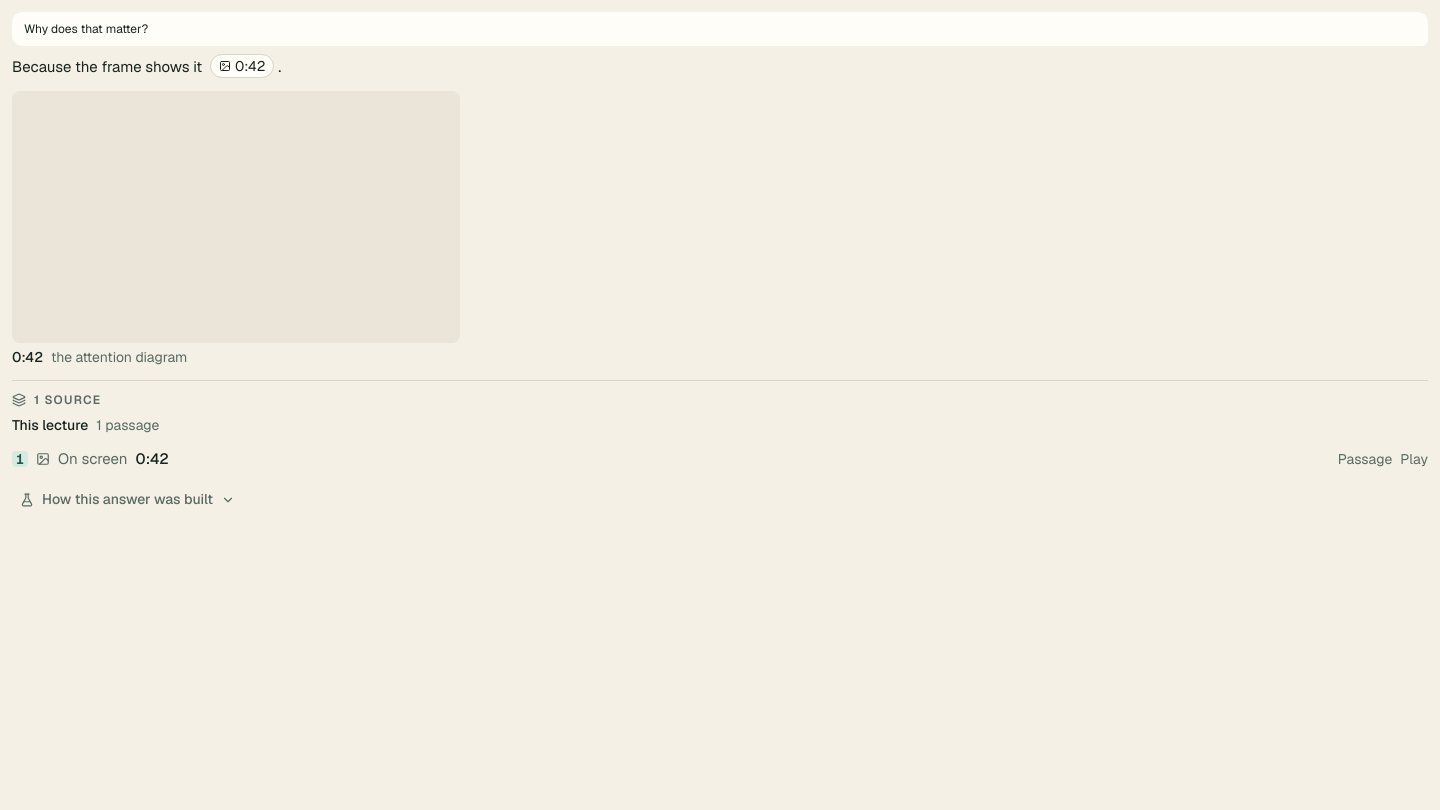
Test: VideoSideChatTurns › shows the anchored context report for a side turn
Click the button "How this answer was built". click: (127, 500)
box: [12,486,243,514]
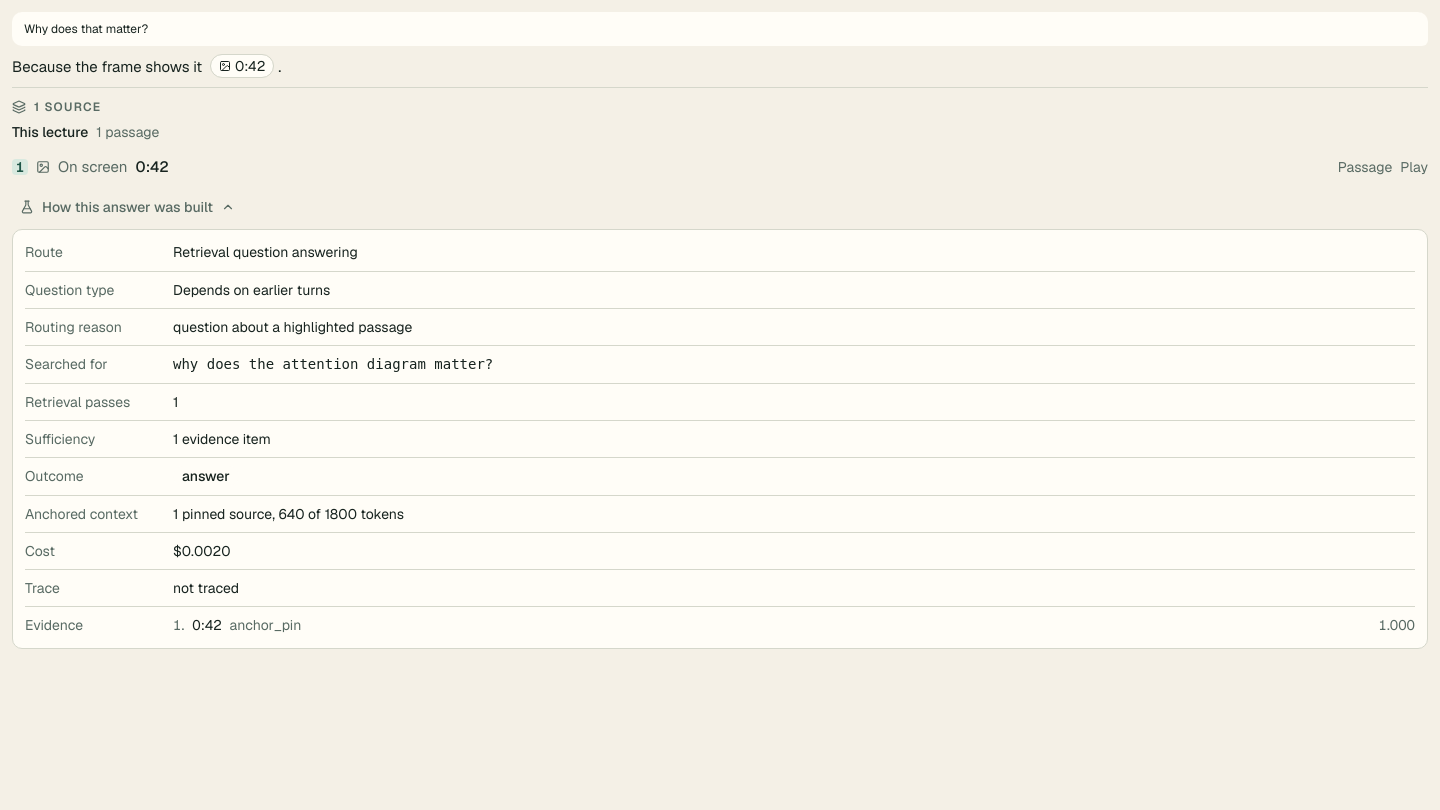
Check: the text "1 pinned source, 640 of 1800 tokens" is shown, box [173,504,404,522]
